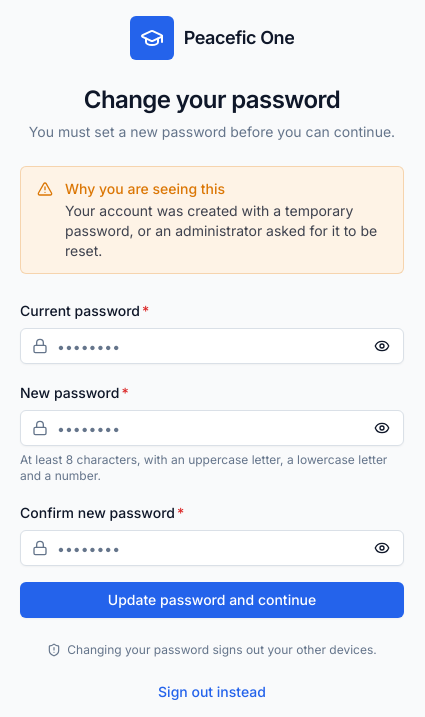
Change password page › rejects a new password identical to the current one
The image size is (425, 717).
Type "OldPassw0rd" into the password field labelled "Current password*". click: (212, 346)
box: left=20, top=328, right=404, bottom=364
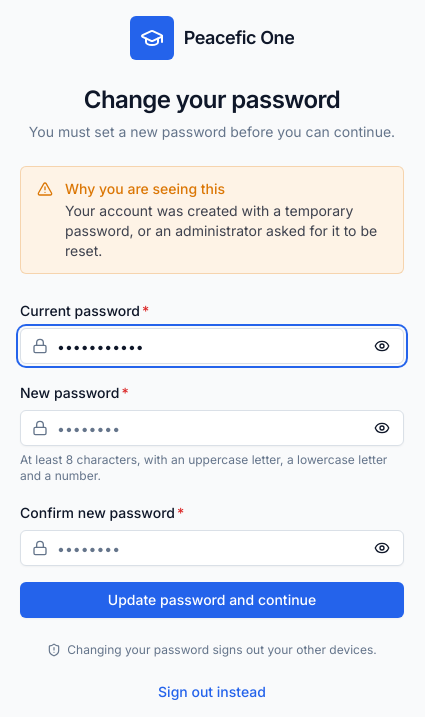
Type "OldPassw0rd" into the password field labelled "New password*". click: (212, 428)
box: left=20, top=410, right=404, bottom=446
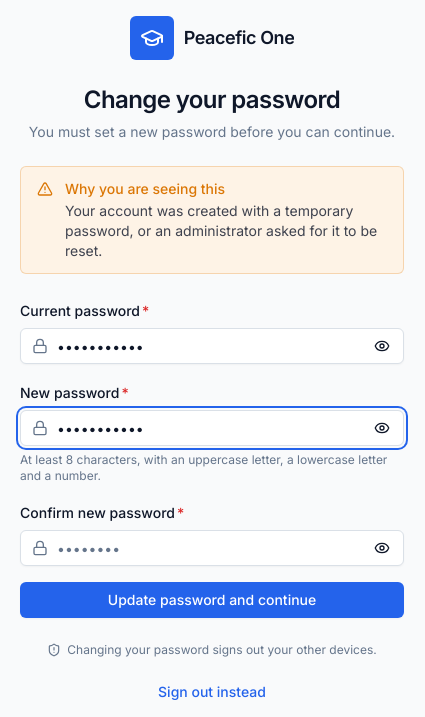
Type "OldPassw0rd" into the password field labelled "Confirm new password*". click: (212, 548)
box: left=20, top=530, right=404, bottom=566
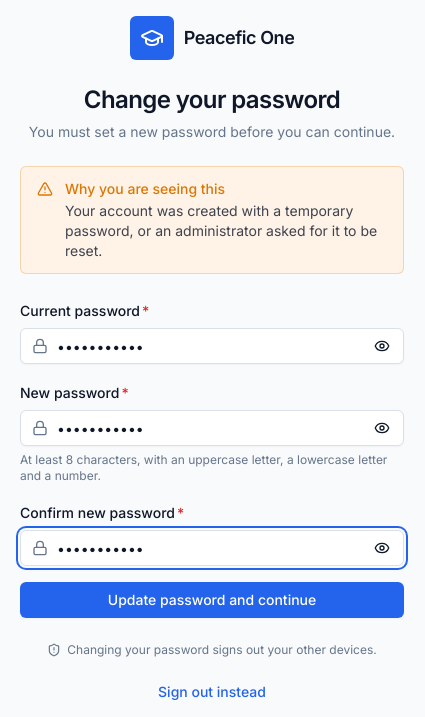
Click the button "Update password and continue". click: (212, 600)
box: left=20, top=582, right=404, bottom=618
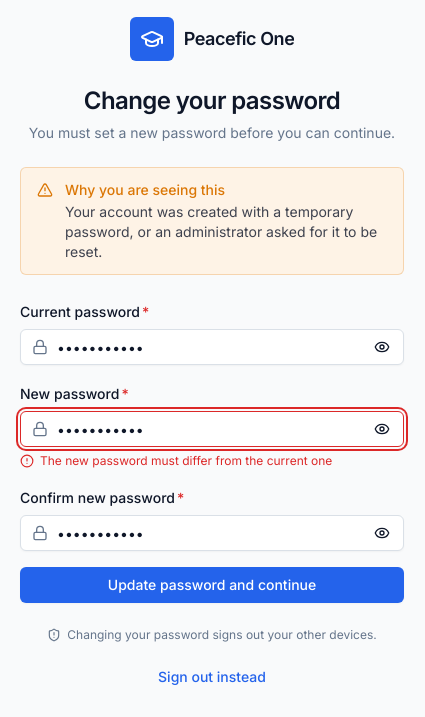
Result: the text "The new password must differ from the current one" is shown at left=20, top=453, right=332, bottom=468
